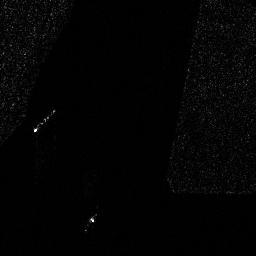ship: (33, 105, 56, 134)
